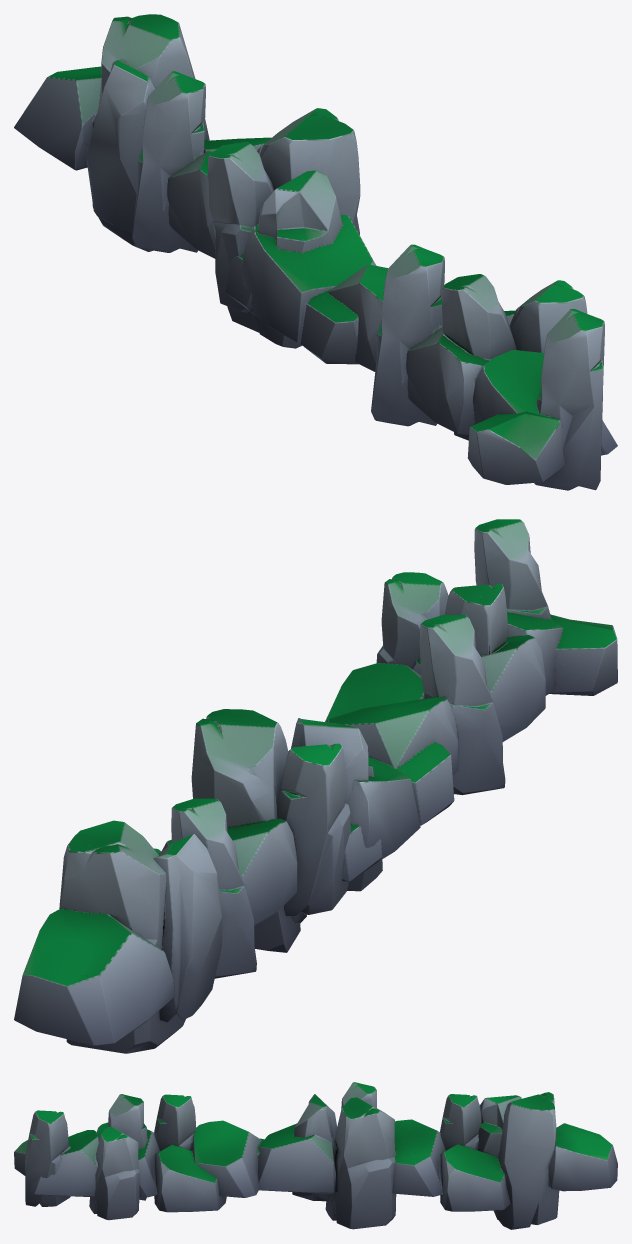
Rendered from WallRocksDark_02.fbx.
3 renders of one model, top to bottom at view 1: azimuth 30°, elevation 25°; view 2: azimuth 150°, elevation 25°; view 3: azimuth 270°, elevation 25°, orthographic. The views are drawn at different scales.
Visible parts, largest first — view 1: RockFountainDark_low.004; view 2: RockFountainDark_low.004; view 3: RockFountainDark_low.004.
Part boxes in pixels (x1,y1,x2,y2): RockFountainDark_low.004: (14, 14, 617, 490); RockFountainDark_low.004: (14, 519, 617, 1053); RockFountainDark_low.004: (14, 1082, 617, 1229).
Bounding box in the file's own units: 611 × 688 × 3172.
